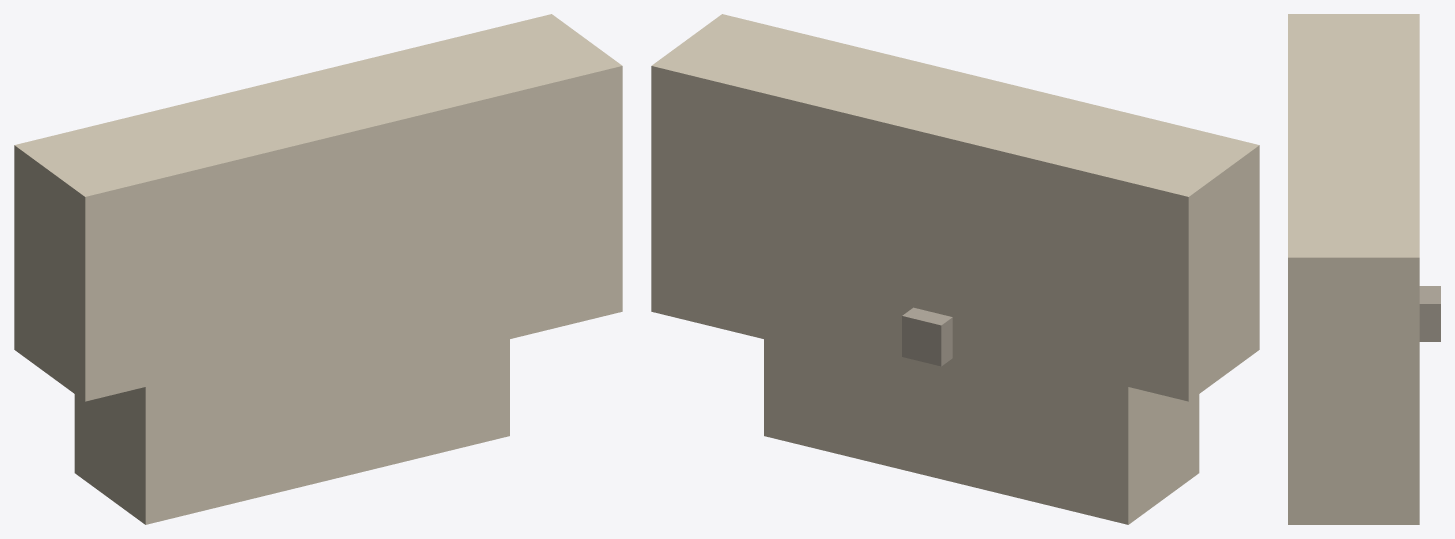
File: historic-palestine-13_29_3554_3234.glb
3 renders of one model, left to right at view 1: azimuth 30°, elevation 25°; view 2: azimuth 150°, elevation 25°; view 3: azimuth 270°, elevation 25°, orthographic. The views are drawn at different scales.
Parts seen in each view (by area): view 1: Building_; view 2: Building_, Roof access hut; view 3: Building_, Roof access hut.
Part boxes in pixels (box(x1,y1,x2,y2)): Building_: box(14, 14, 622, 524); Building_: box(651, 14, 1259, 524); Roof access hut: box(902, 307, 952, 366); Building_: box(1288, 14, 1419, 524); Roof access hut: box(1419, 286, 1440, 341).
Bounding box in the file's own units: 32.85 × 20.02 × 8.7.
